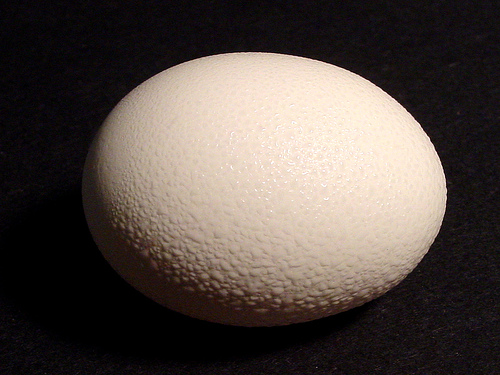egg: (82, 51, 449, 331)
